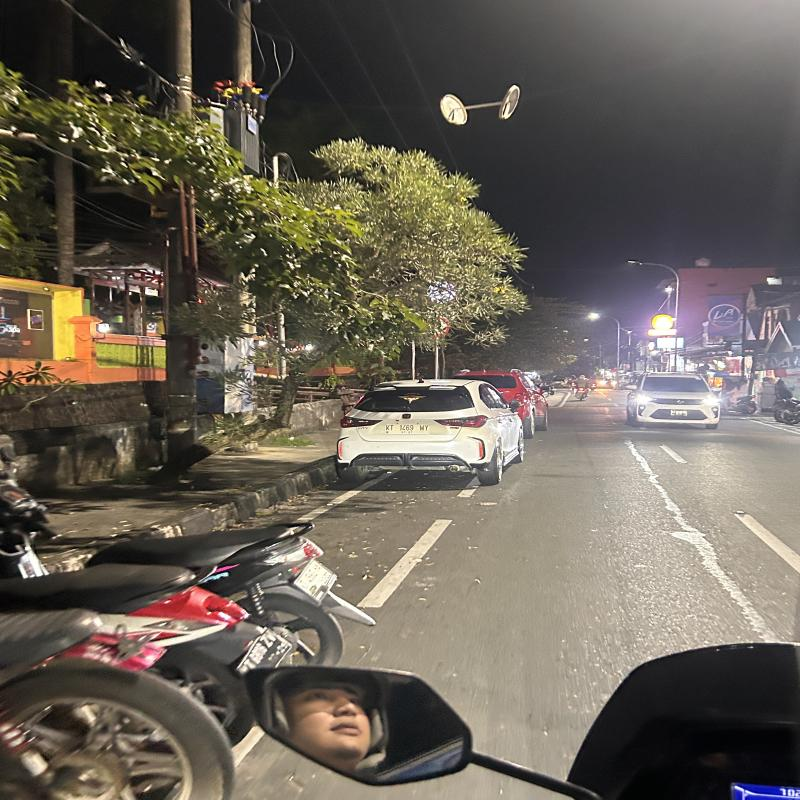license plate on a car: (384, 424, 432, 434), (670, 409, 688, 418)
